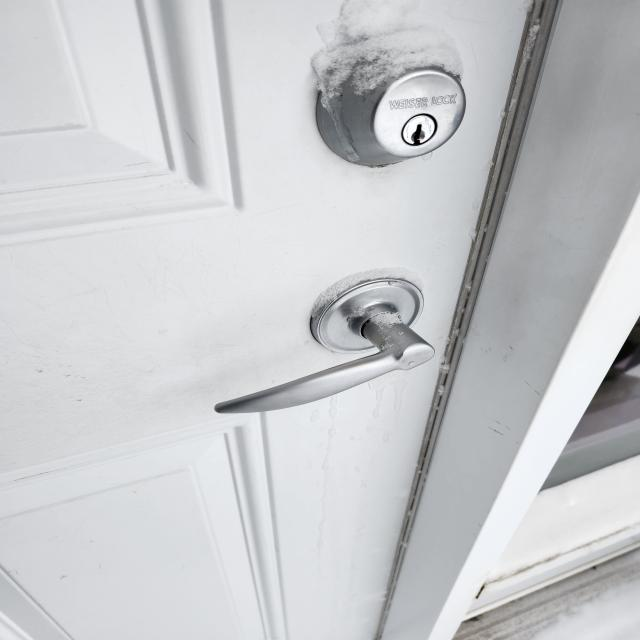door-handle: (215, 279, 435, 414)
